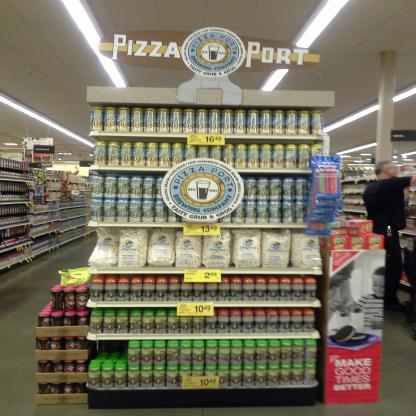Void: (92, 340, 127, 360)
